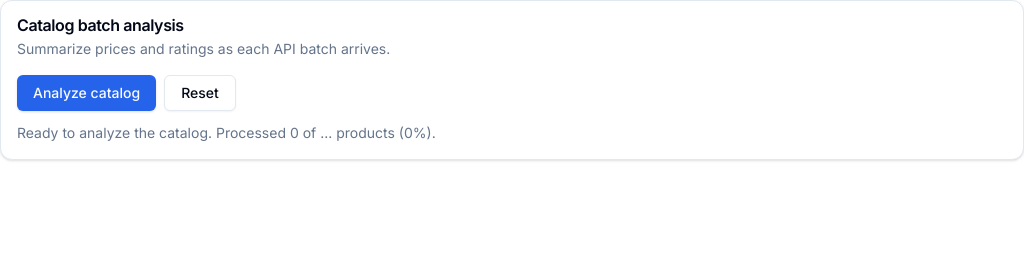
Test: product batch processing panel › retains completed summaries when a later batch fails
Click the button "Analyze catalog" at (87, 93), box [17,75,156,111]
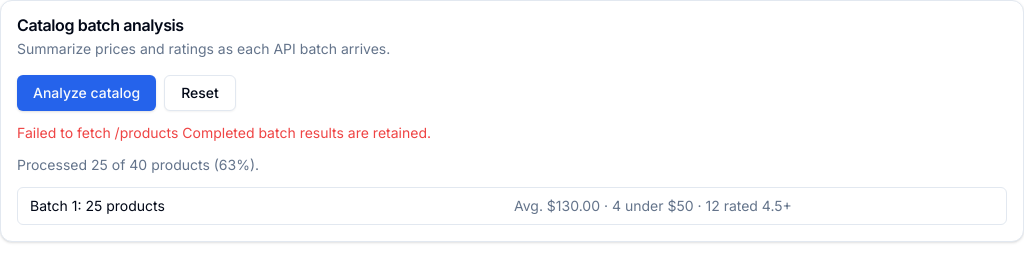
Expected: the message shows "Completed batch results are retained", [178,124,431,141]
Expected: the text "Batch 1: 25 products" is shown, [30,197,165,214]
